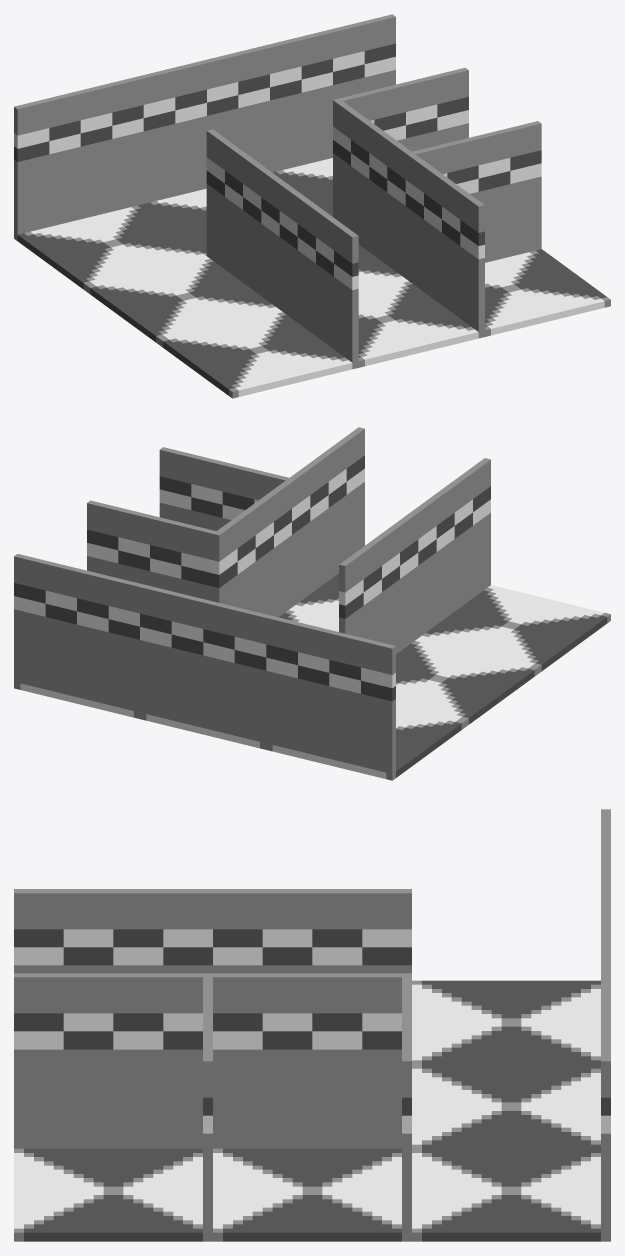
File: level_maze-3.obj
3 views of the same model, one above another, from view 1: azimuth 30°, elevation 25°; view 2: azimuth 150°, elevation 25°; view 3: azimuth 270°, elevation 25° (orthographic). The views are drawn at different scales.
Parts seen in each view (by area): view 1: level_maze-3; view 2: level_maze-3; view 3: level_maze-3.
Boxes of the visible parts, left/top/right/bottom form: level_maze-3: left=14, top=14, right=610, bottom=398; level_maze-3: left=14, top=427, right=610, bottom=780; level_maze-3: left=14, top=809, right=610, bottom=1241.
Size of the model in its own units: 60 by 20 by 60.
Materials: 1 (1 with a texture image).
